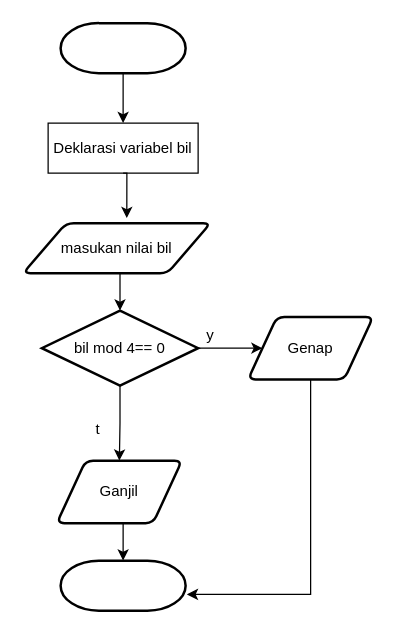
This 395x633 diagram has some shape labels left out. Each missing label, with the box of its shape:
End: (59, 559, 186, 611)
Start: (59, 21, 186, 74)
